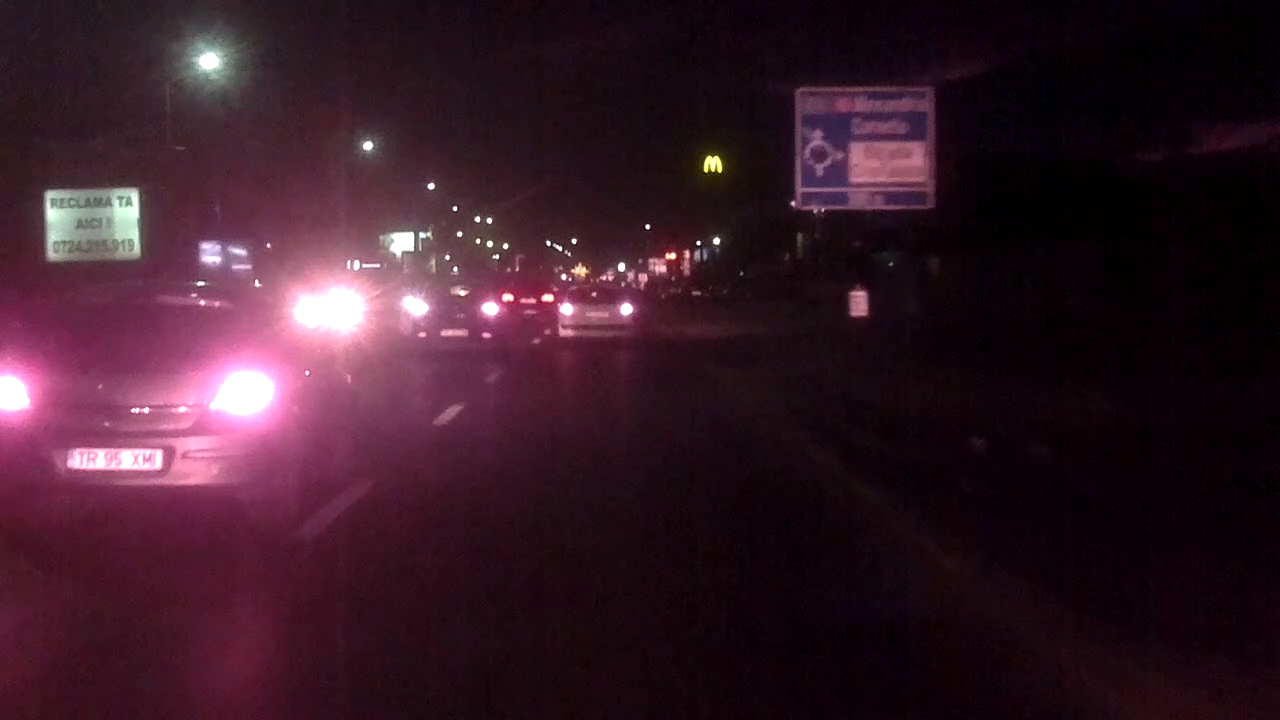license-plate: (61, 443, 167, 475)
